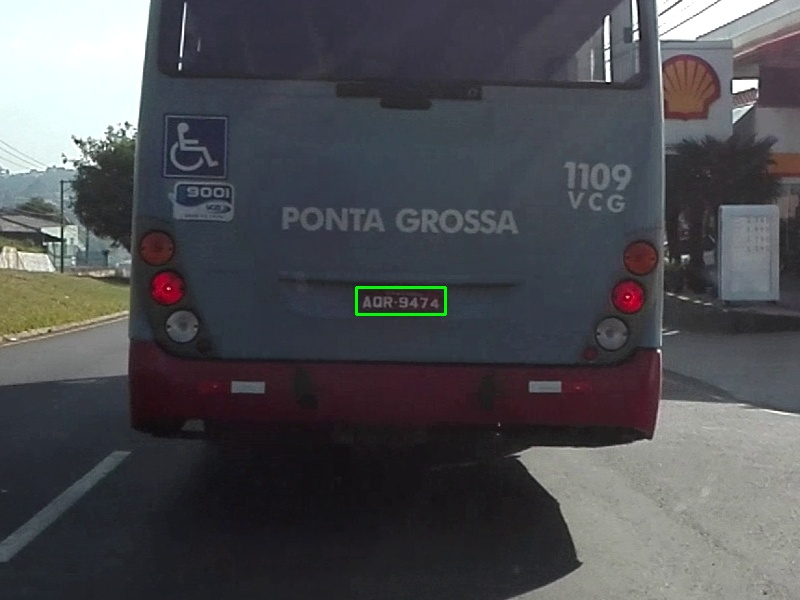placa: (356, 287, 445, 314)
